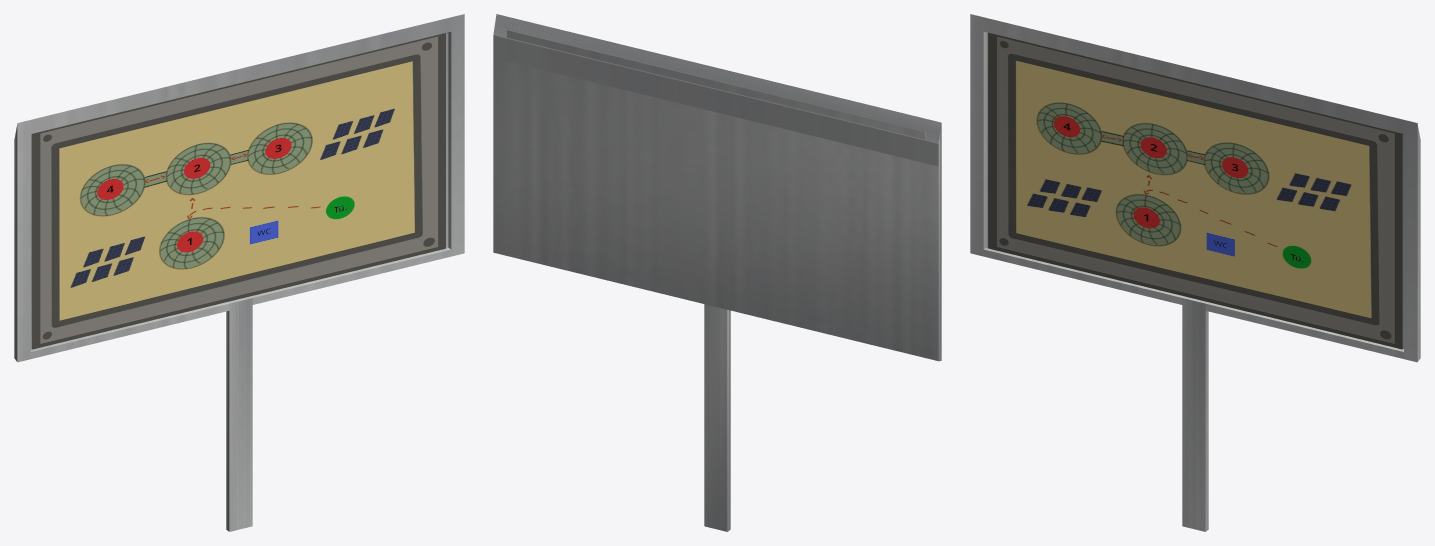
The model's file is cartel-mapa.fbx.
The picture shows the model from 3 angles, left to right: view 1: azimuth 30°, elevation 25°; view 2: azimuth 150°, elevation 25°; view 3: azimuth 330°, elevation 25°; orthographic projection.
Parts seen in each view (by area): view 1: Plane; view 2: Plane; view 3: Plane.
Part boxes in pixels (x1,y1,x2,y2): Plane: [14, 14, 464, 531]; Plane: [493, 14, 941, 531]; Plane: [970, 14, 1420, 531].
Bounding box in the file's own units: 824 × 811 × 10.
Materials: 2 (2 with a texture image).
